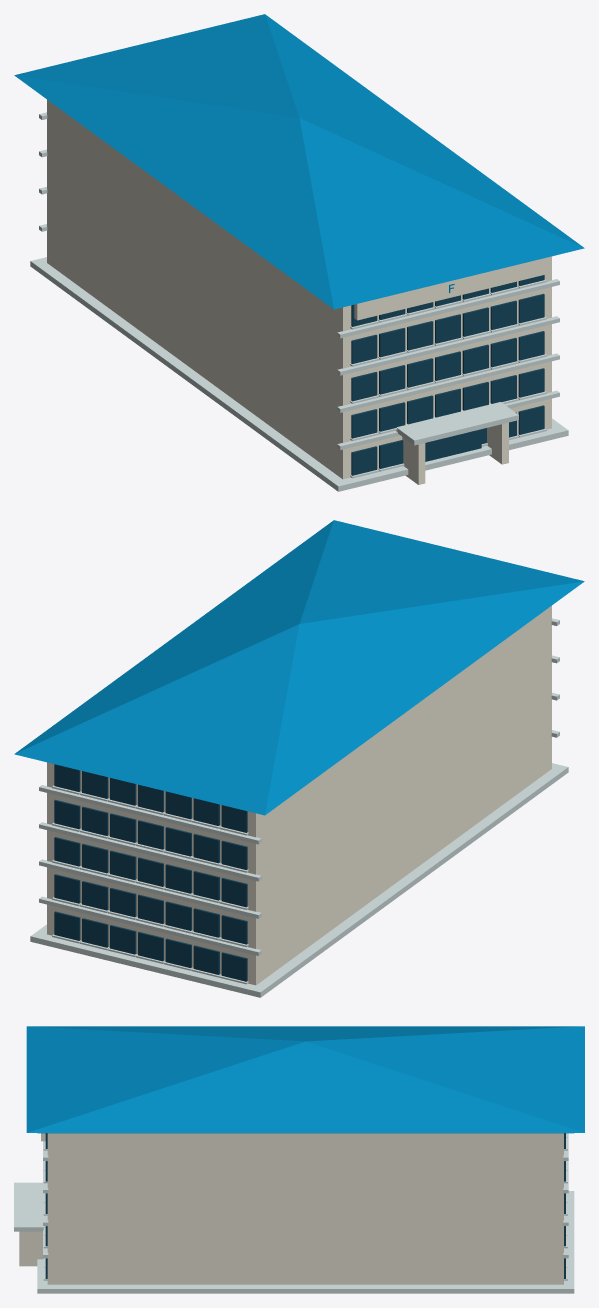
File: kedokteran.glb
The picture shows the model from 3 angles, top to bottom: view 1: azimuth 30°, elevation 25°; view 2: azimuth 150°, elevation 25°; view 3: azimuth 270°, elevation 25°; orthographic projection. The views are drawn at different scales.
Parts seen in each view (by area): view 1: Kedokteran_blue, Kedokteran_ivory, Kedokteran_glass, Kedokteran_trim; view 2: Kedokteran_blue, Kedokteran_ivory, Kedokteran_glass, Kedokteran_trim; view 3: Kedokteran_ivory, Kedokteran_blue, Kedokteran_trim, Kedokteran_glass.
Boxes of the visible parts, x1,y1,x2,y2 form: Kedokteran_blue: (14,14,584,309); Kedokteran_ivory: (47,100,551,484); Kedokteran_glass: (351,275,544,475); Kedokteran_trim: (30,112,568,491); Kedokteran_blue: (14,520,584,815); Kedokteran_ivory: (47,606,551,985); Kedokteran_glass: (54,764,247,981); Kedokteran_trim: (30,618,568,997); Kedokteran_ivory: (19,1133,563,1284); Kedokteran_blue: (26,1026,584,1133); Kedokteran_trim: (14,1133,574,1293); Kedokteran_glass: (45,1133,565,1278).
Size of the model in its own units: 24 by 21.55 by 54.2.
